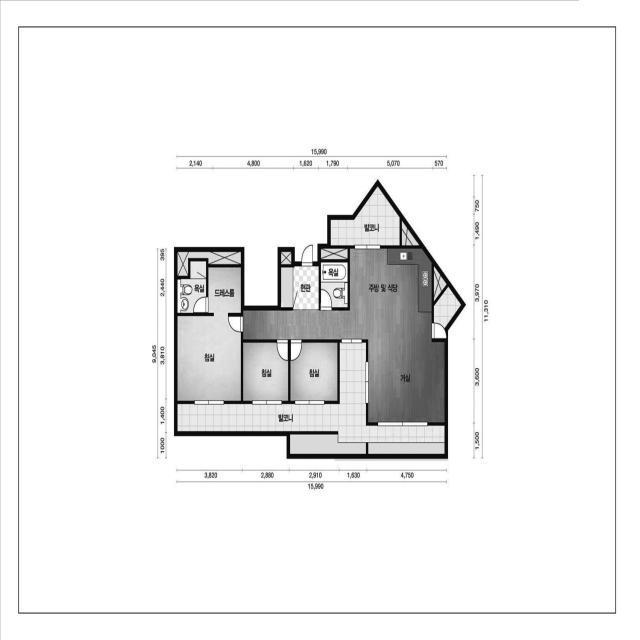space_balconi: (177, 343, 444, 454), (331, 186, 400, 245), (434, 287, 461, 338)
space_bedroom: (177, 316, 241, 401), (290, 343, 337, 401), (243, 343, 288, 401)
space_dressroom: (208, 267, 241, 313)
space_front: (281, 267, 319, 311)
space_kitchen: (350, 249, 432, 310)
space_living_room: (243, 310, 445, 422)
space_other: (177, 252, 241, 276), (434, 266, 446, 301), (402, 221, 419, 245), (321, 249, 348, 259), (281, 252, 291, 264)
space_toilet: (177, 261, 206, 313), (321, 262, 348, 307)
